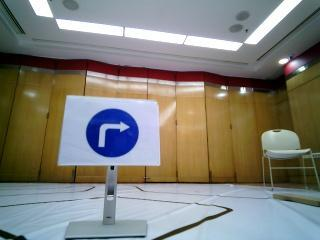right: (73, 99, 144, 155)
